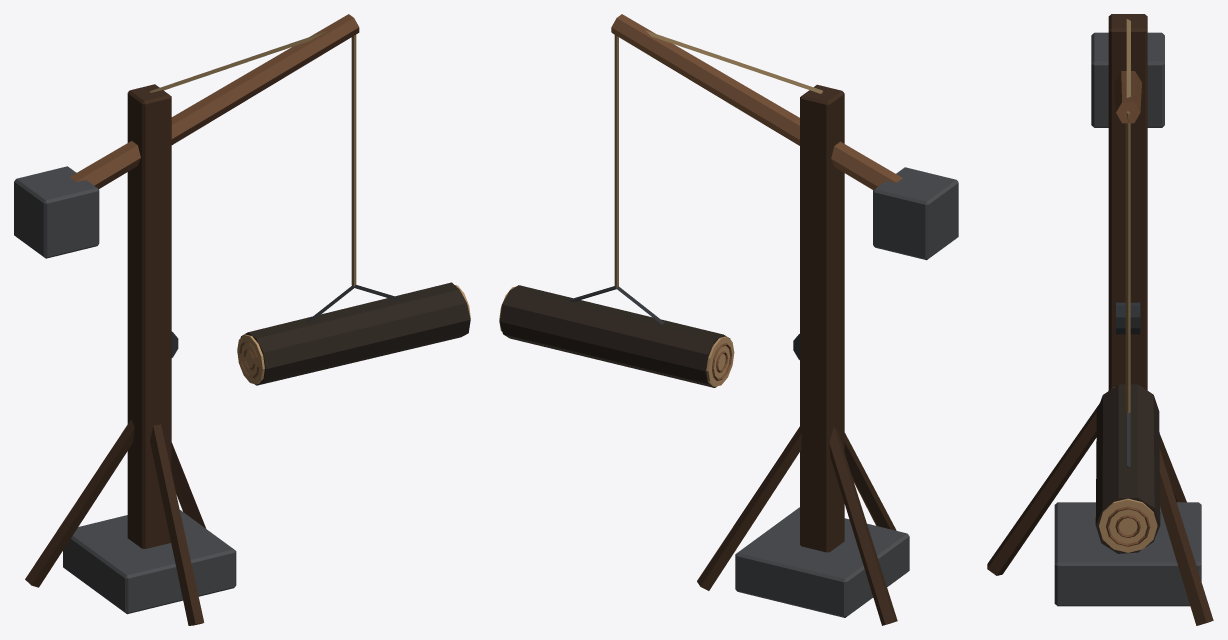
The model's file is log_crane.glb.
3 renders of one model, left to right at view 1: azimuth 30°, elevation 25°; view 2: azimuth 150°, elevation 25°; view 3: azimuth 270°, elevation 25°, orthographic. The views are drawn at different scales.
Visible parts, largest first — view 1: LogCrane; view 2: LogCrane; view 3: LogCrane.
Boxes of the visible parts, bbox=[...] form: LogCrane: bbox=[14, 14, 470, 625]; LogCrane: bbox=[499, 14, 958, 625]; LogCrane: bbox=[987, 14, 1213, 625].
Size of the model in its own units: 2.32 by 2.66 by 0.9233.
